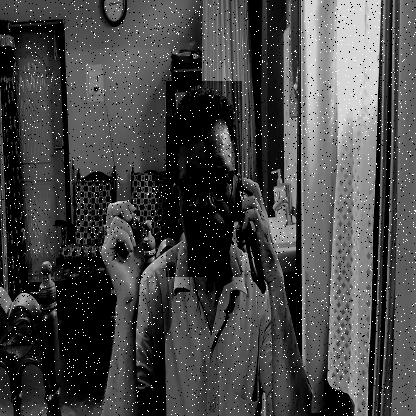Normal: (166, 81, 242, 277)
